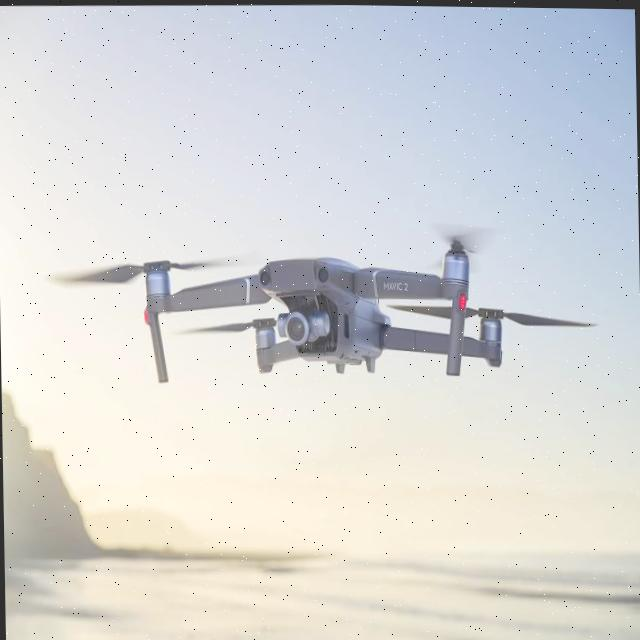drone: (95, 203, 610, 381)
